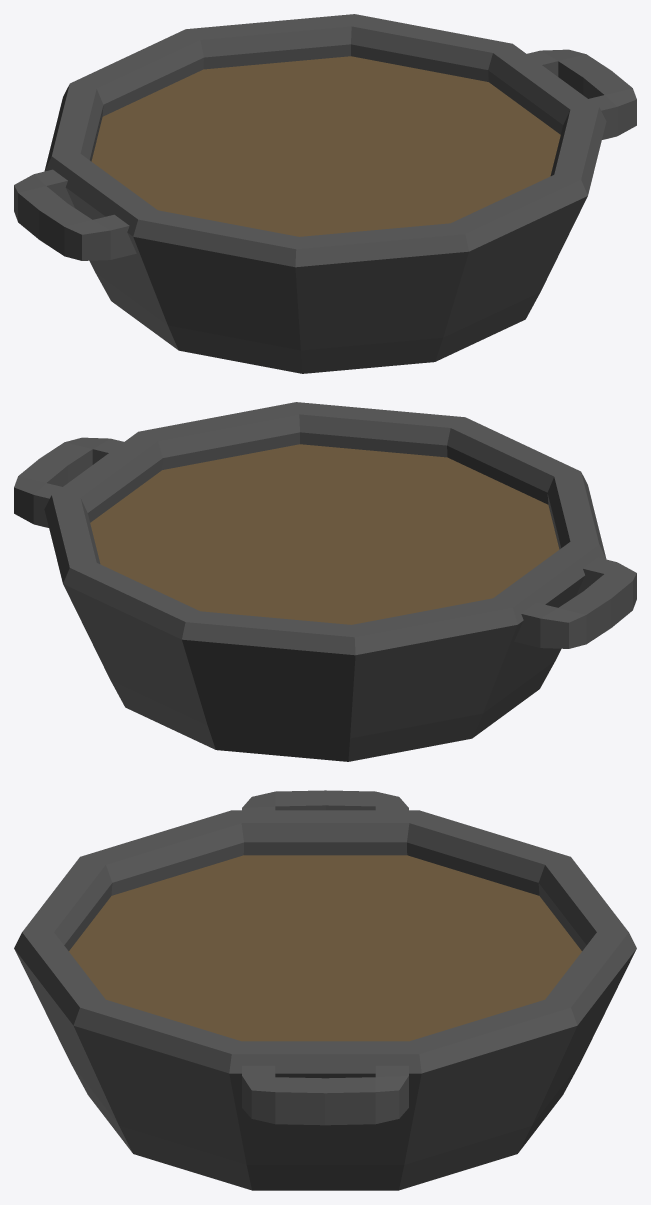
Rendered from CookingPot2_Soup.glb.
3 views of the same model, one above another, from view 1: azimuth 30°, elevation 25°; view 2: azimuth 150°, elevation 25°; view 3: azimuth 270°, elevation 25° (orthographic). The views are drawn at different scales.
Parts seen in each view (by area): view 1: CookingPot2_Soup; view 2: CookingPot2_Soup; view 3: CookingPot2_Soup.
Boxes of the visible parts, x1,y1,x2,y2 form: CookingPot2_Soup: (14, 14, 636, 373); CookingPot2_Soup: (14, 402, 636, 761); CookingPot2_Soup: (14, 790, 636, 1190).
Size of the model in its own units: 2.29 by 0.6224 by 1.99.
